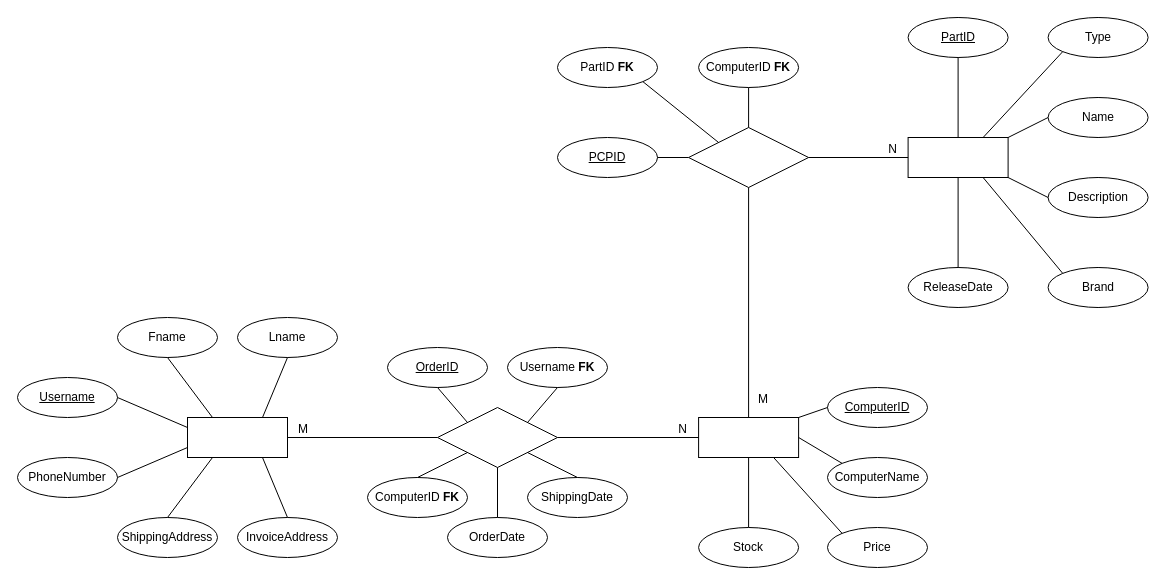
This 1166x585 diagram has some shape labels left out. The centre of each missing label's shape, as x and y in pixels:
"Contains" belongs at point (748, 157).
"Customers" belongs at point (237, 437).
"Orders" belongs at point (497, 437).
"Parts" belongs at point (957, 157).
"Prebuilt computers" belongs at point (748, 437).
